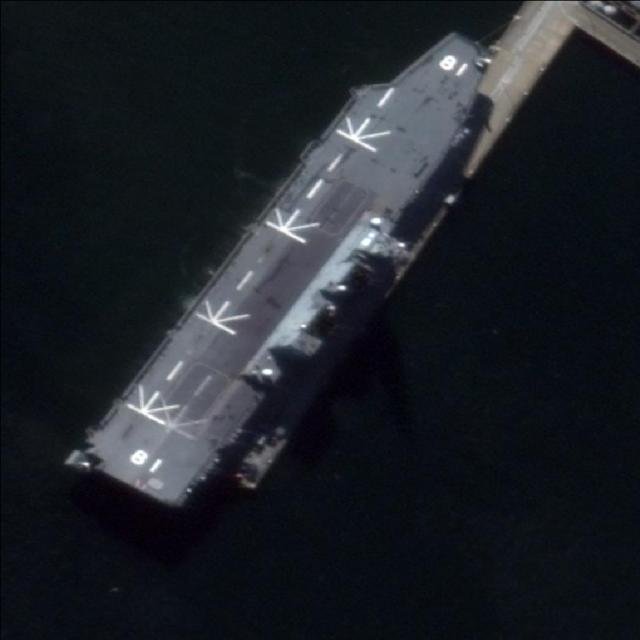Destroyer: (68, 4, 515, 531)
